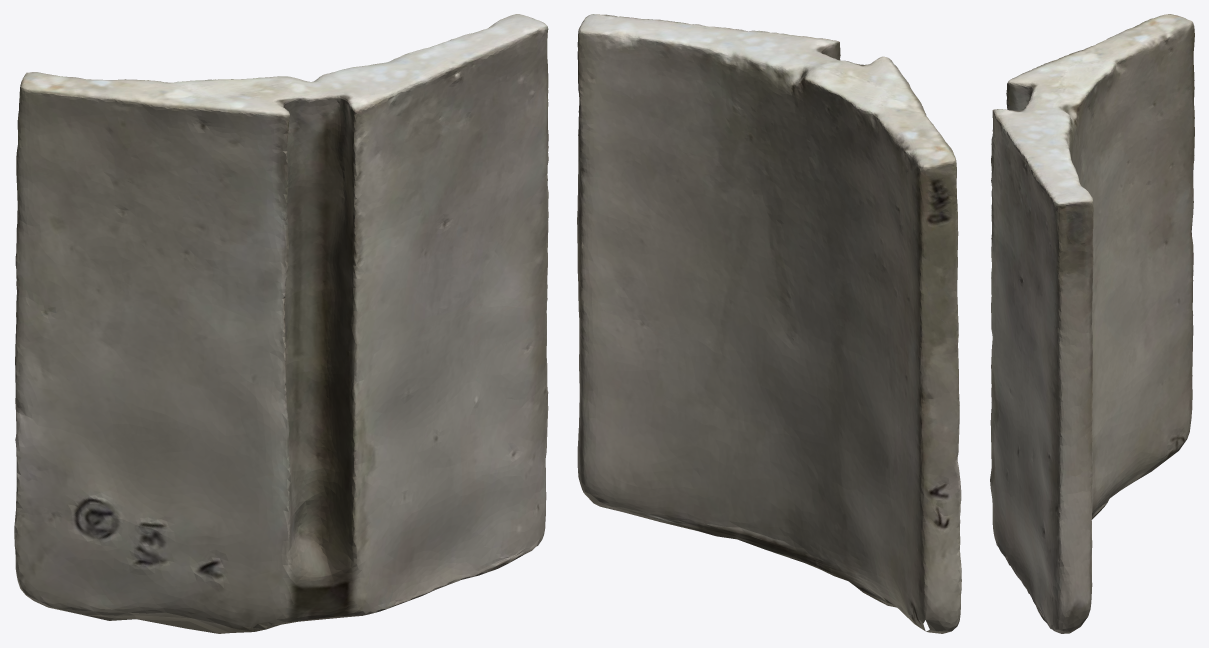
The model's file is Basement 1.glb.
The picture shows the model from 3 angles, left to right: view 1: azimuth 30°, elevation 25°; view 2: azimuth 150°, elevation 25°; view 3: azimuth 270°, elevation 25°; orthographic projection. The views are drawn at different scales.
Size of the model in its own units: 0.2575 by 0.2827 by 0.116.
Materials: 1 (1 with a texture image).
